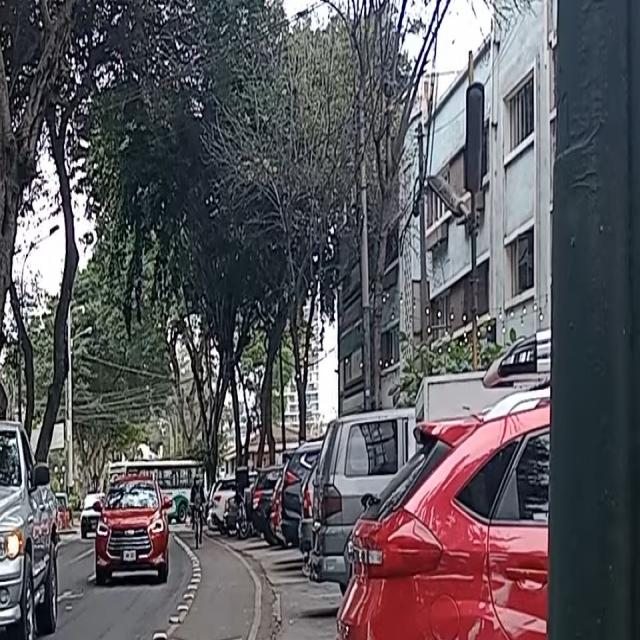bicycle: (190, 475, 206, 551)
car: (0, 418, 57, 639), (92, 470, 173, 583), (81, 493, 105, 537)
